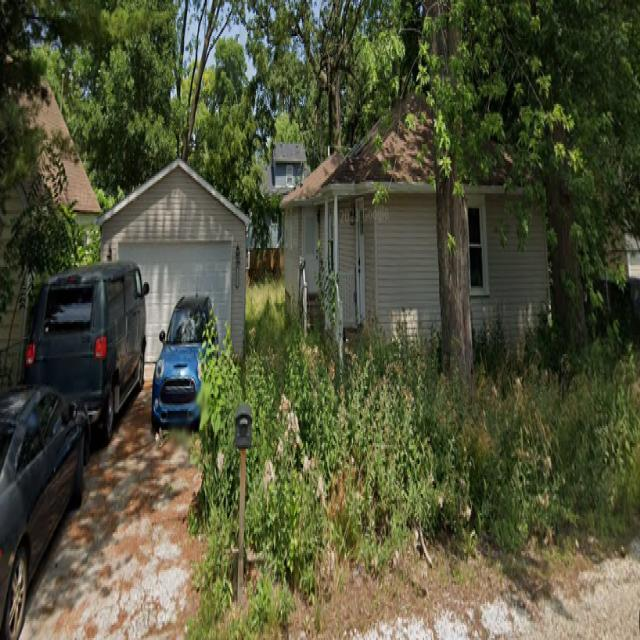House: (280, 92, 554, 372), (0, 54, 103, 390), (248, 143, 312, 277)
